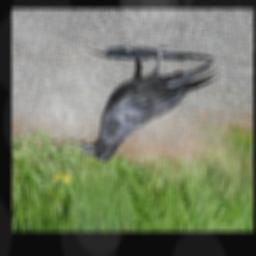Crow: (79, 41, 222, 162)
